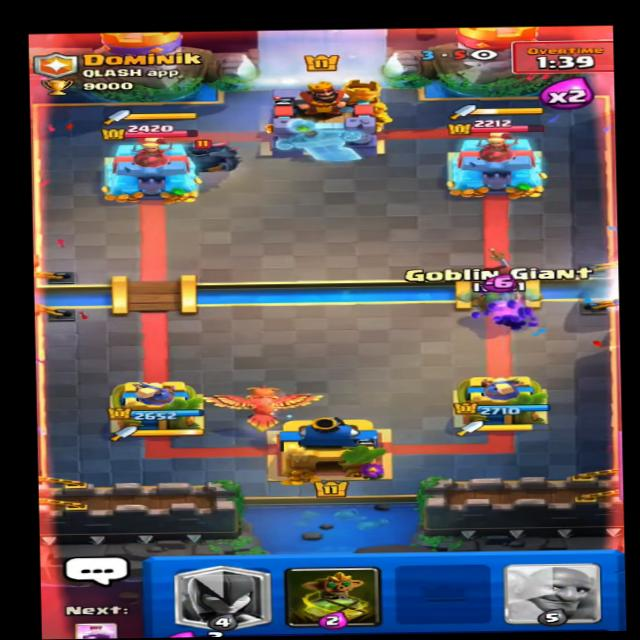Pekka: (161, 131, 252, 181)
